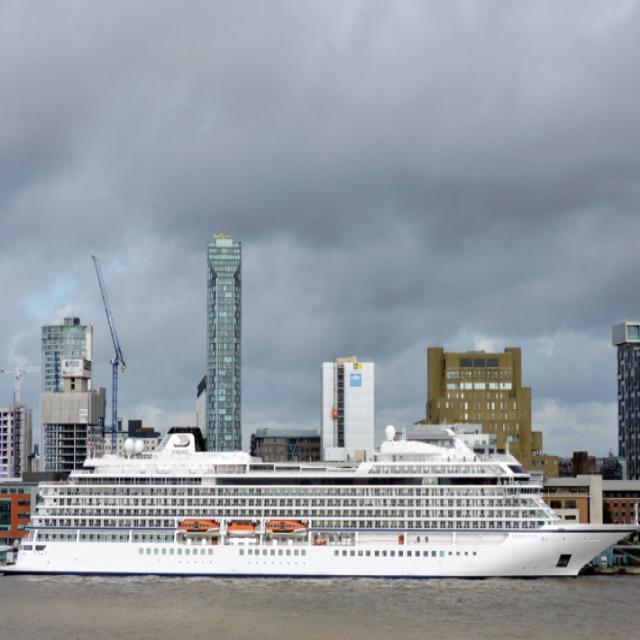cruises: (1, 417, 640, 588)
